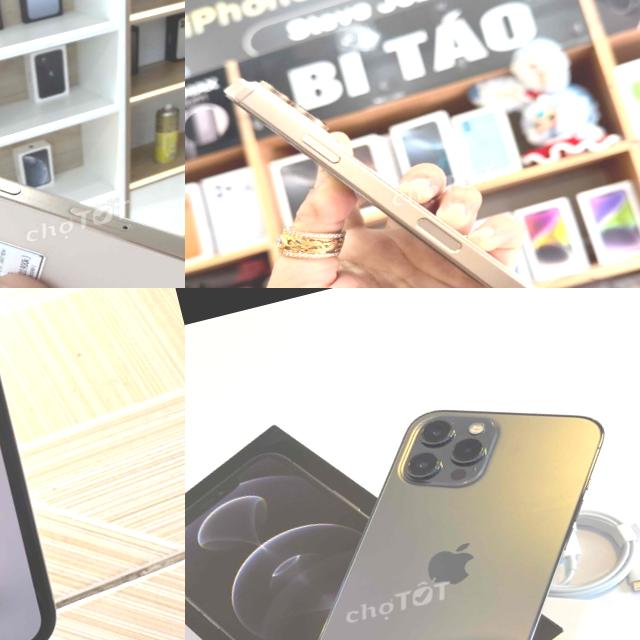gen_12_13: (226, 368, 640, 640)
gen_16: (224, 78, 535, 288), (0, 11, 185, 288)
gen_x_xs: (0, 288, 95, 640)
